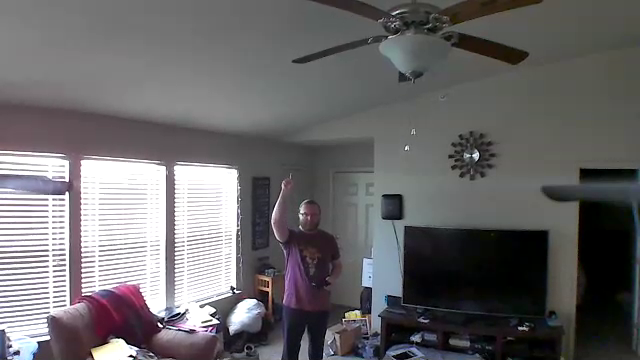up: (279, 169, 295, 196)
